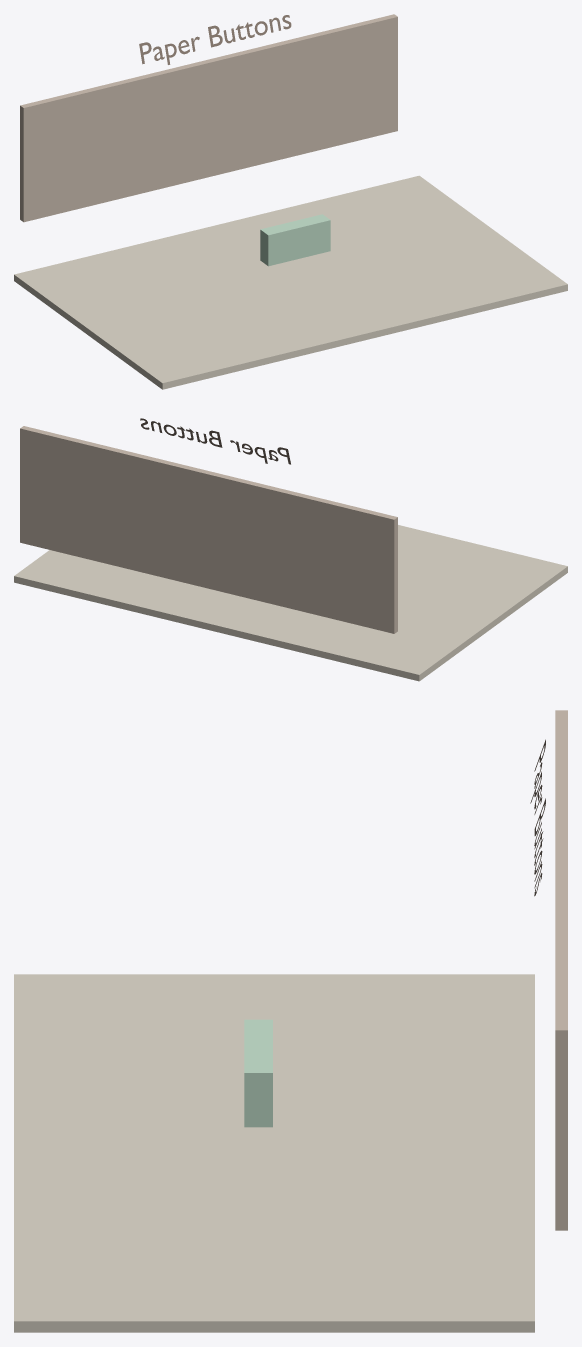
The model's file is 14_ui_elements.glb.
3 views of the same model, one above another, from view 1: azimuth 30°, elevation 25°; view 2: azimuth 150°, elevation 25°; view 3: azimuth 270°, elevation 25° (orthographic). The views are drawn at different scales.
Visible parts, largest first — view 1: PaperFloor-col, BackCard, PaperButton, TitleLabel; view 2: BackCard, PaperFloor-col, TitleLabel; view 3: PaperFloor-col, BackCard, PaperButton, TitleLabel.
Boxes of the visible parts, x1=… form: PaperFloor-col: x1=14, y1=175, x2=567, y2=389; BackCard: x1=20, y1=14, x2=397, y2=222; PaperButton: x1=260, y1=214, x2=330, y2=266; TitleLabel: x1=139, y1=15, x2=291, y2=64; BackCard: x1=20, y1=426, x2=397, y2=633; PaperFloor-col: x1=14, y1=525, x2=567, y2=681; TitleLabel: x1=140, y1=418, x2=290, y2=464; PaperFloor-col: x1=14, y1=974, x2=534, y2=1332; BackCard: x1=555, y1=710, x2=567, y2=1230; PaperButton: x1=244, y1=1019, x2=272, y2=1127; TitleLabel: x1=530, y1=739, x2=545, y2=896.
Bounding box in the file's own units: 5.2 × 2.49 × 3.51.
